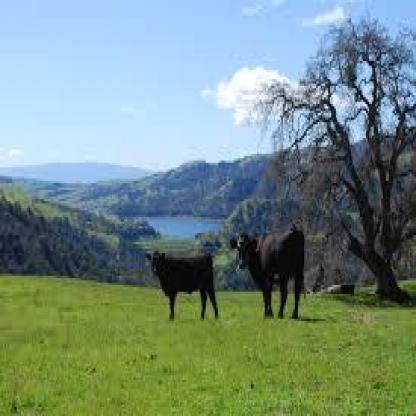cow: (234, 228, 309, 324), (148, 252, 218, 318)
